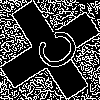C: (25, 25, 83, 80)
